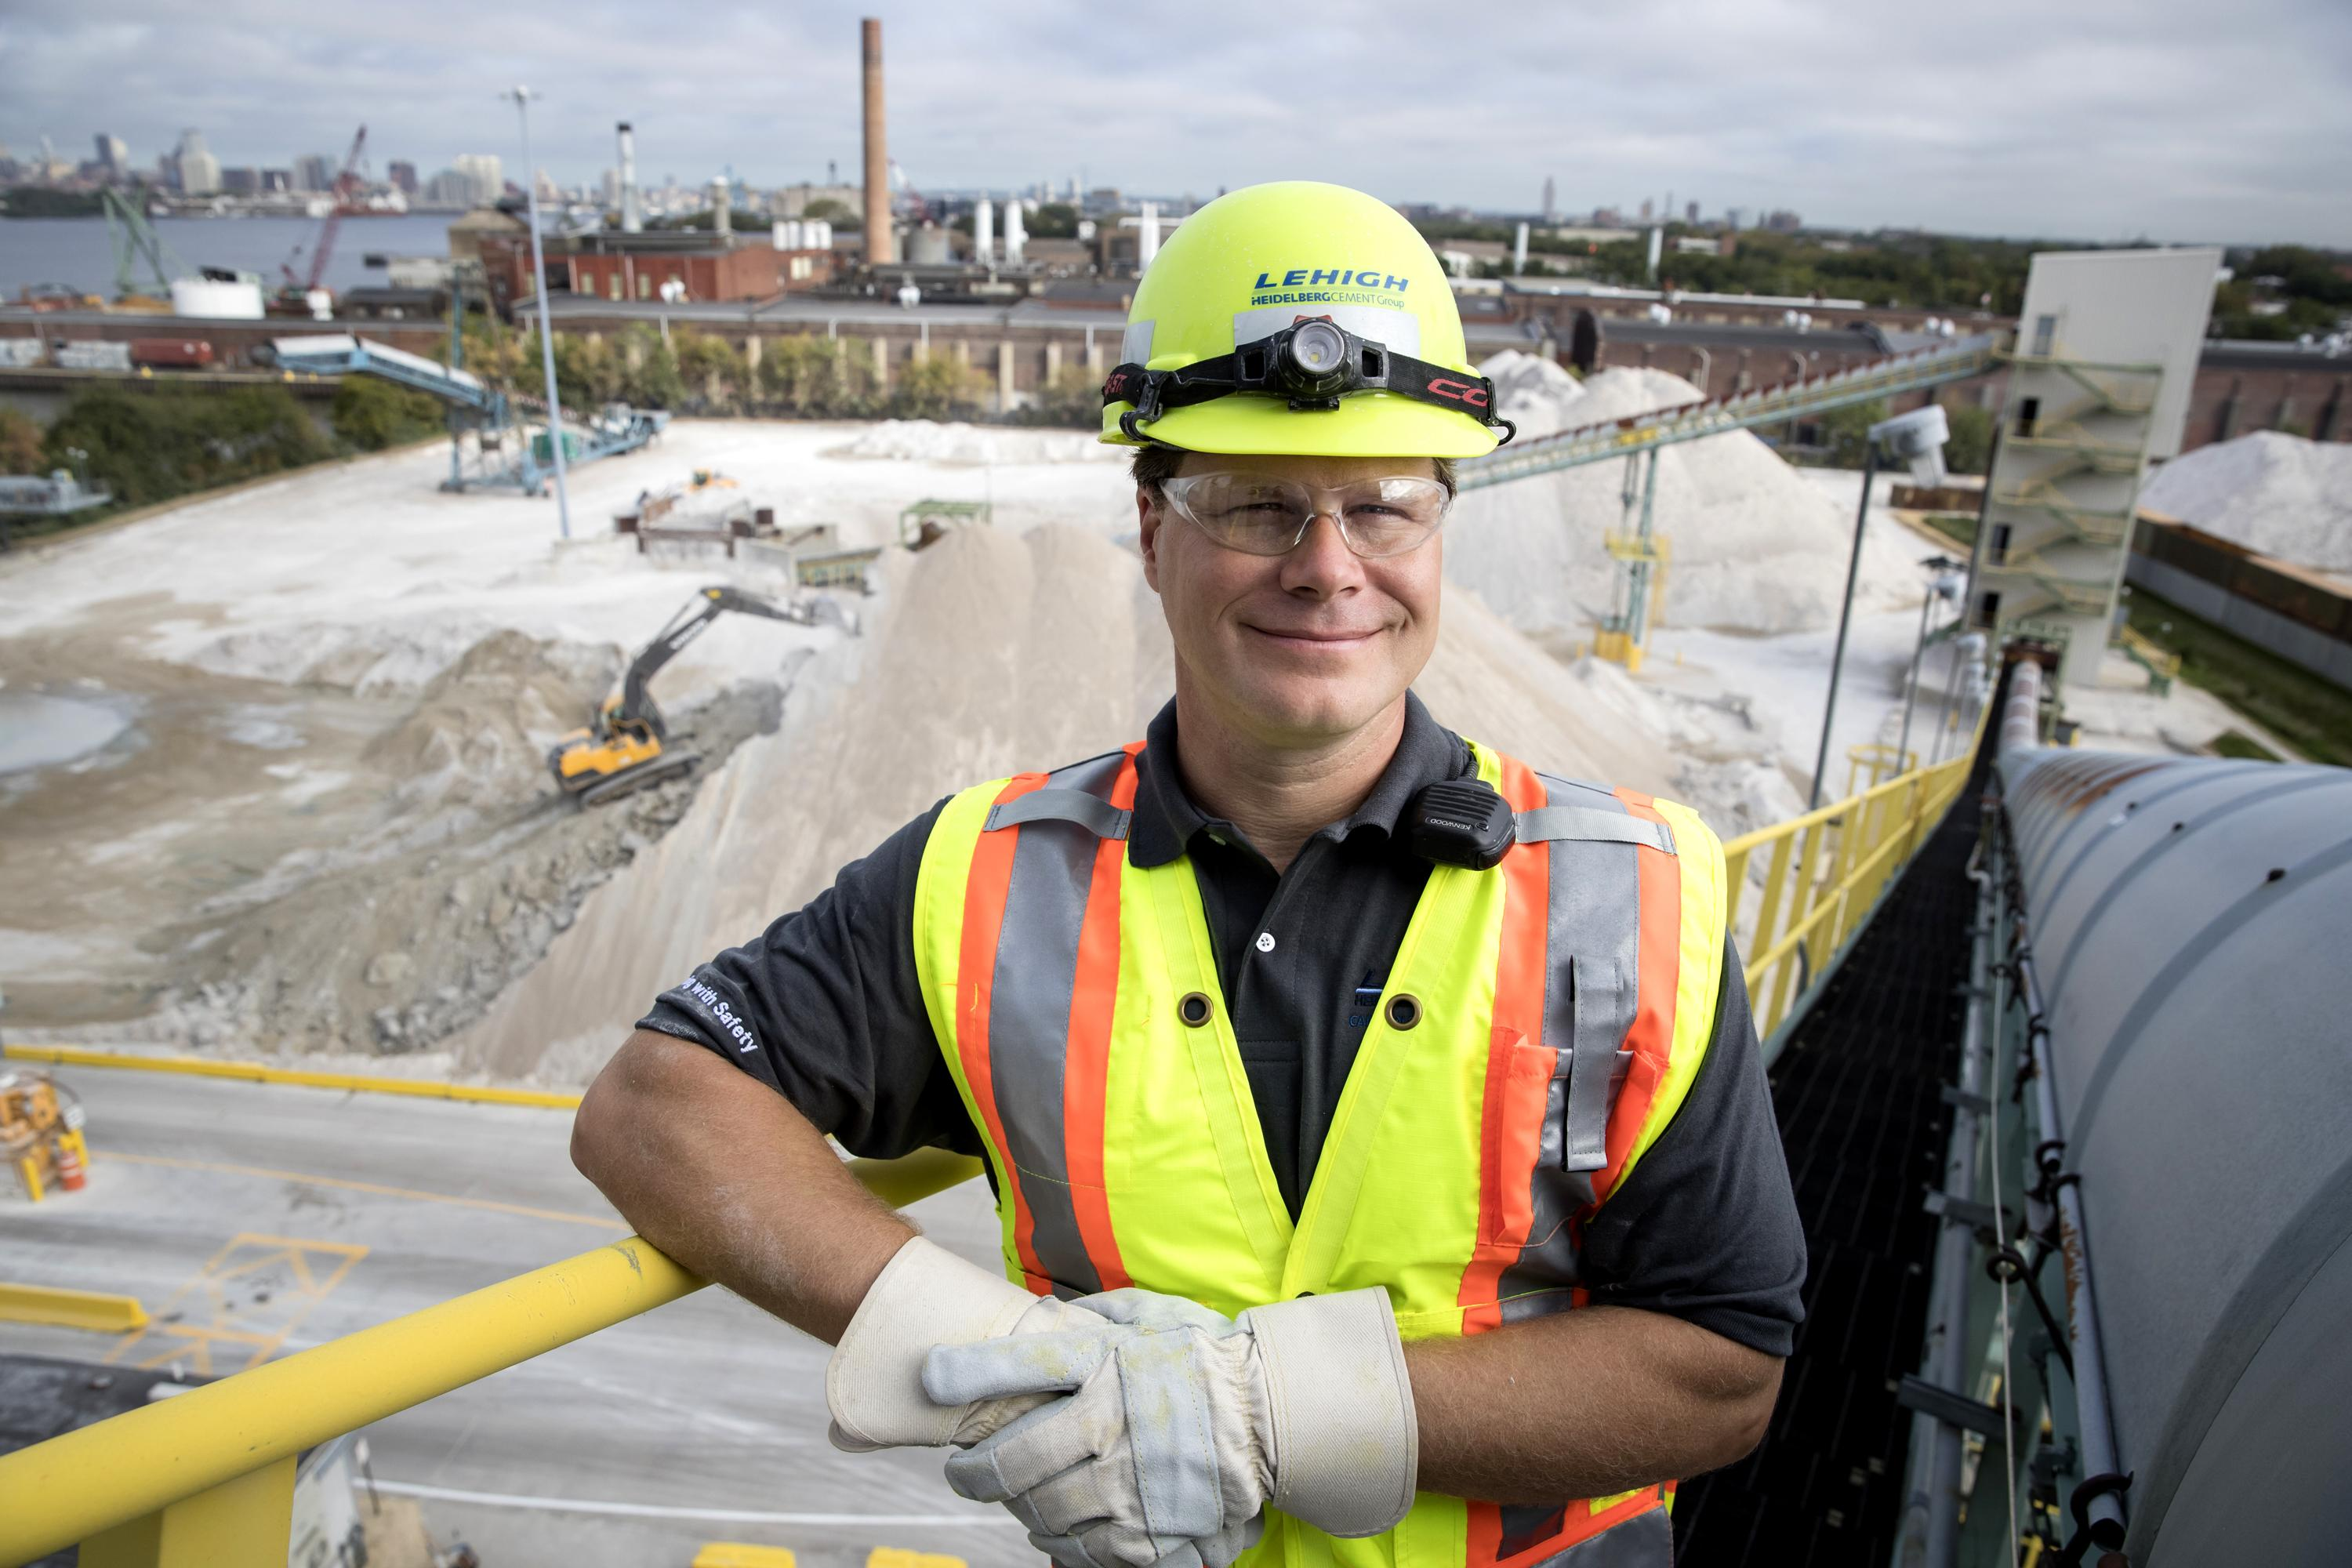helmet: (1116, 179, 1500, 474)
